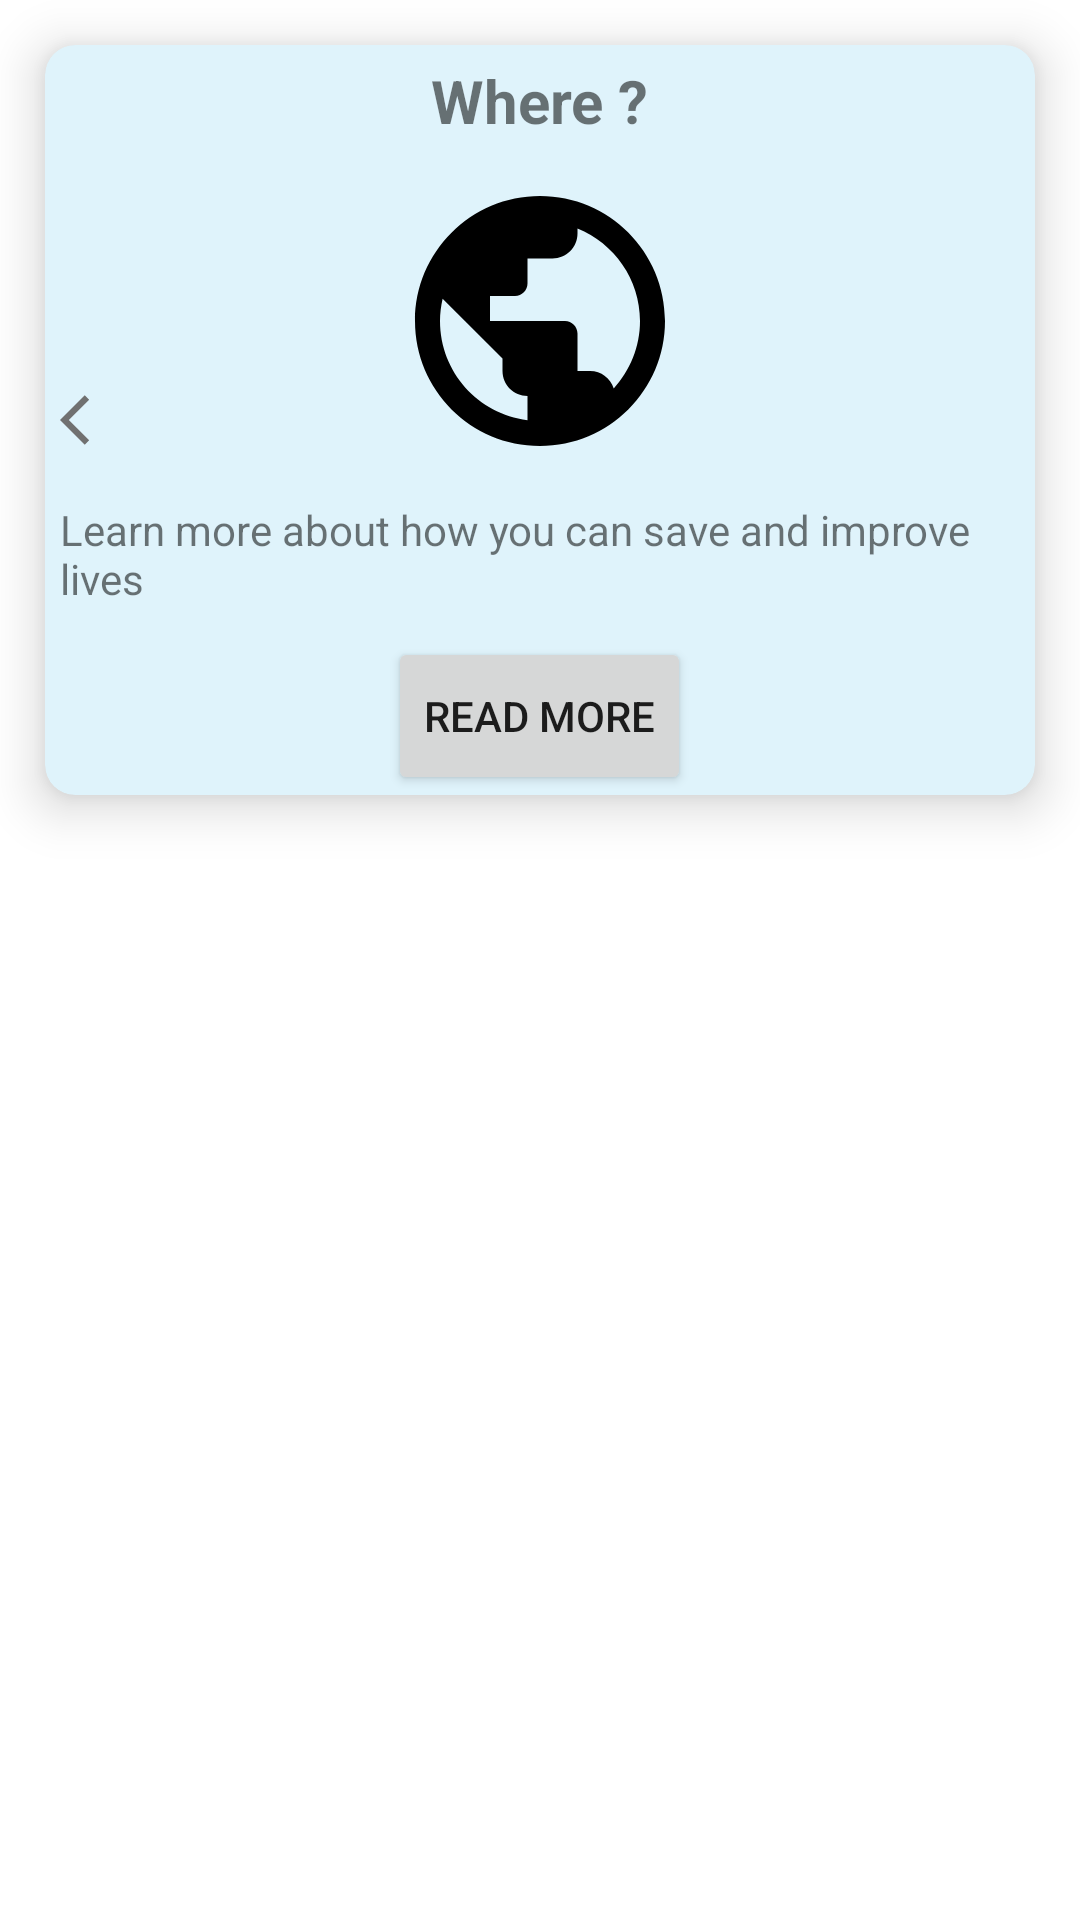

Where icons sit on this 1080w x 1920h app screen, as (x1, y1, x2, y2):
arrow back: (60, 395, 89, 445)
